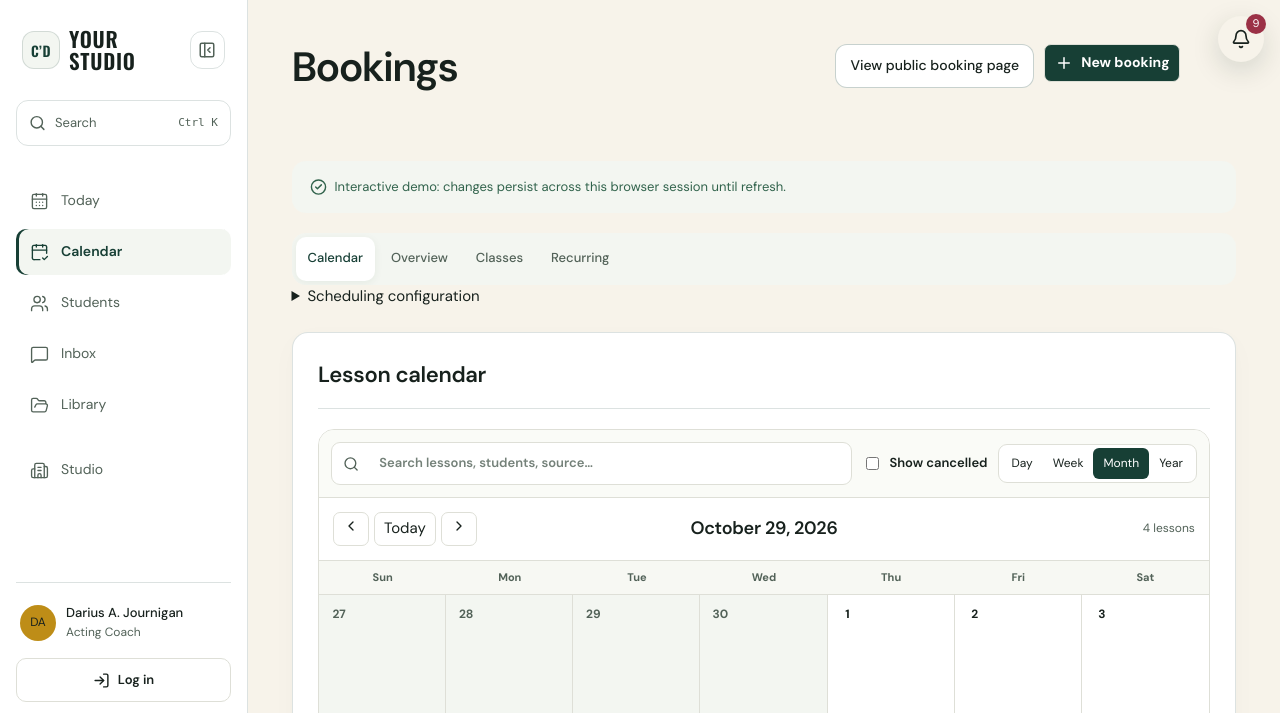
Scenario: calendar appointment details › retains the opener while a fresh snapshot arrives before the appointment URL commits
The width and height of the screenshot is (1280, 713).
Type "Scene Study" into the field labelled "Search lessons" at (604, 464), box [367,444,840,484]
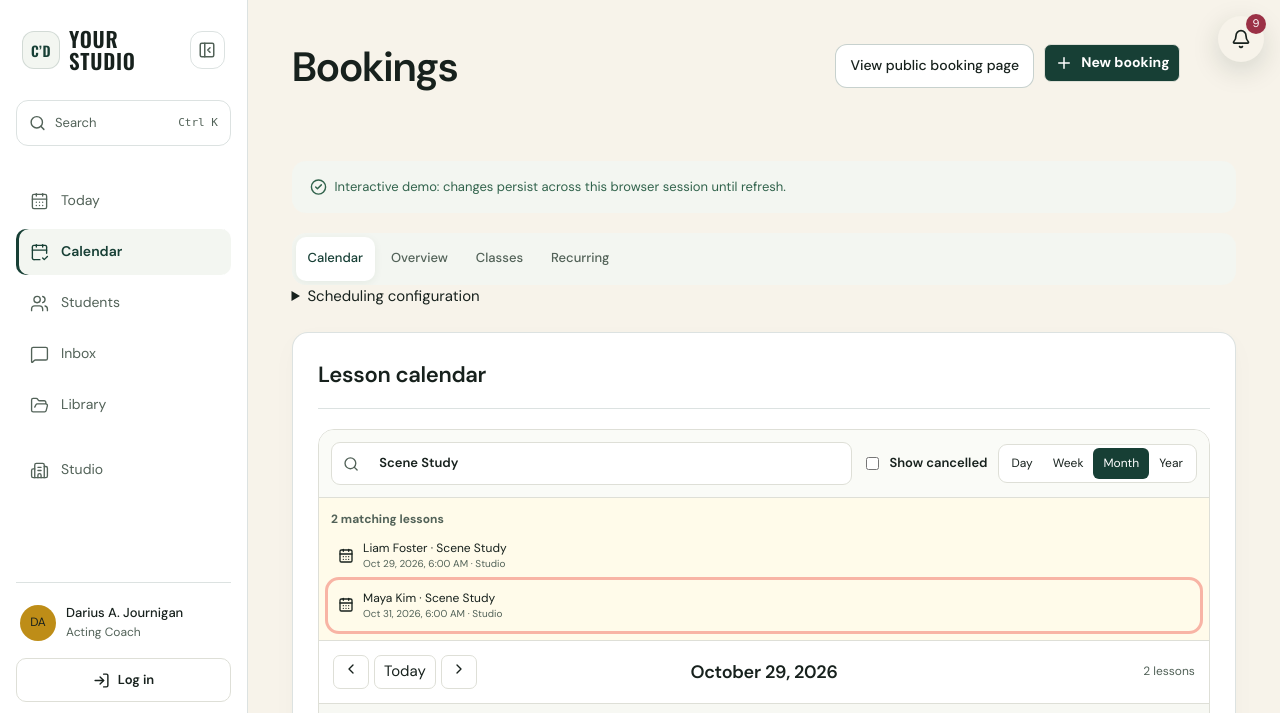
Press Enter
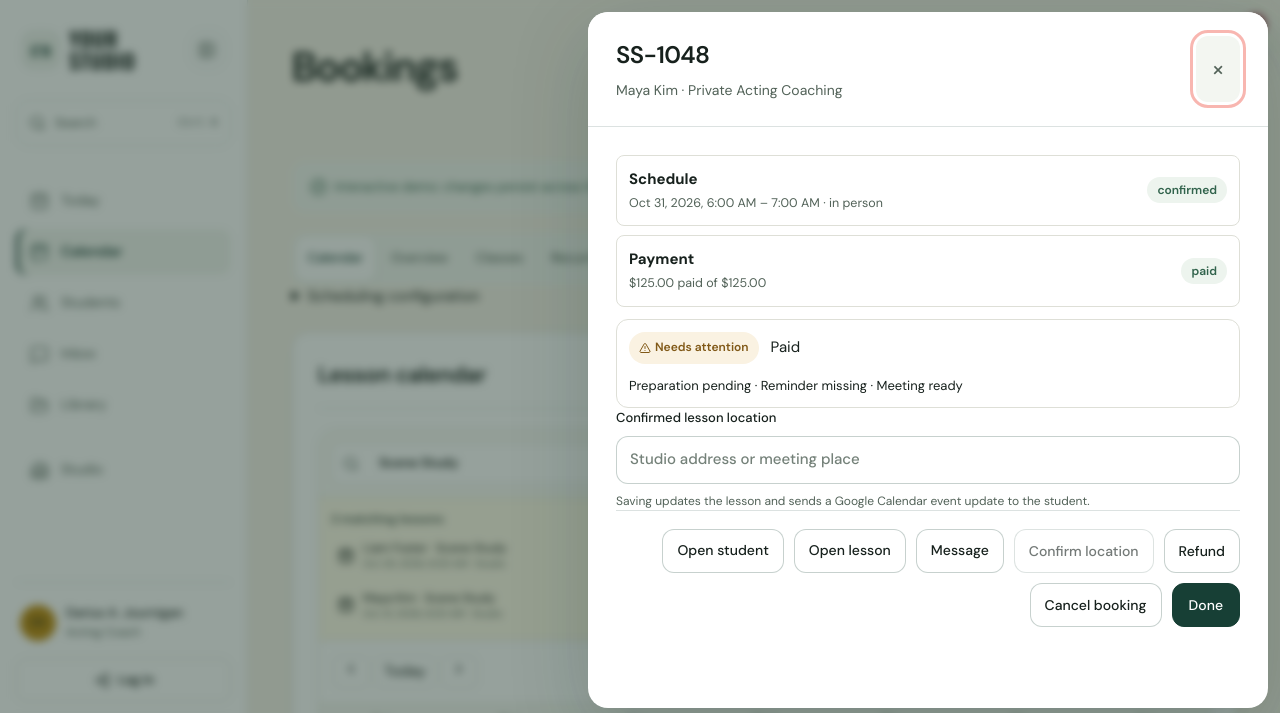
Expected: the dialog "SS-1048" is shown, [588,12,1268,708]
Press Escape
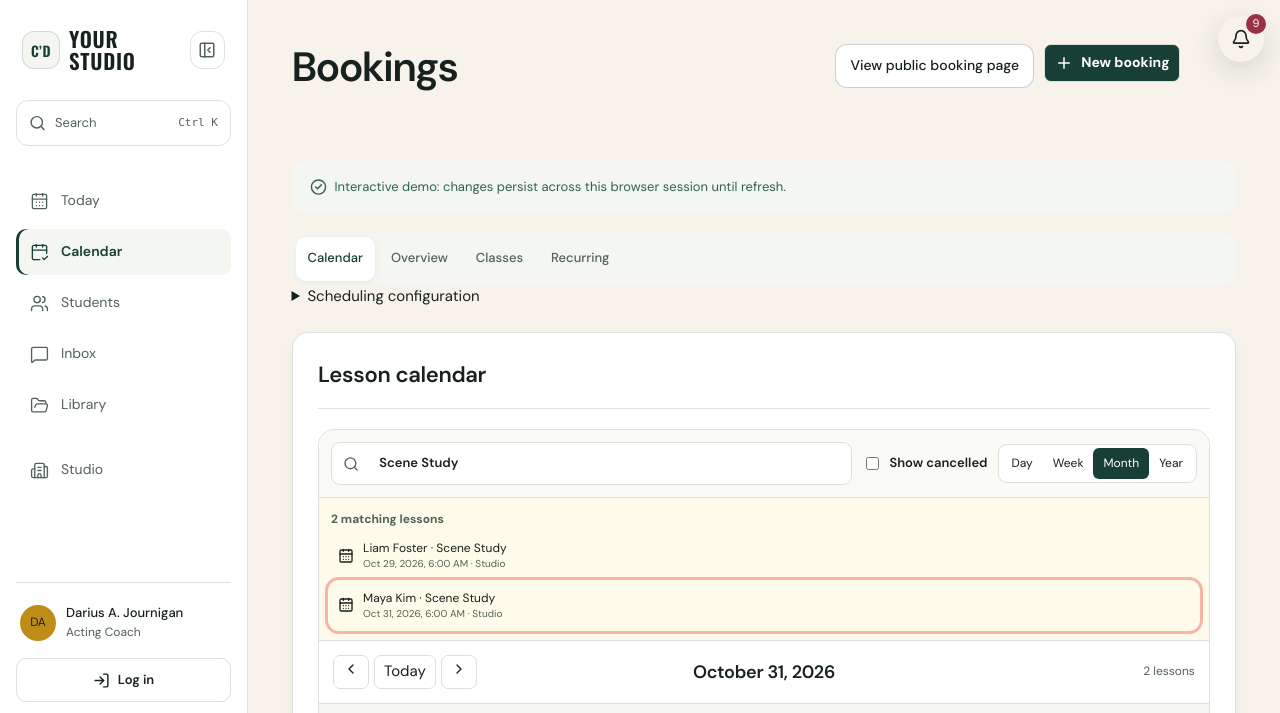
Expected: the dialog is gone
